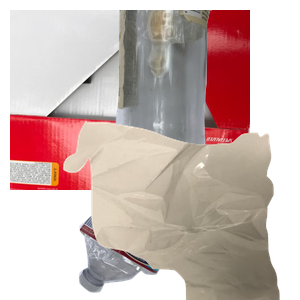cardboard: (10, 10, 250, 190)
glass: (113, 10, 300, 190)
plastic: (76, 131, 280, 300)
trash: (61, 120, 300, 300)
